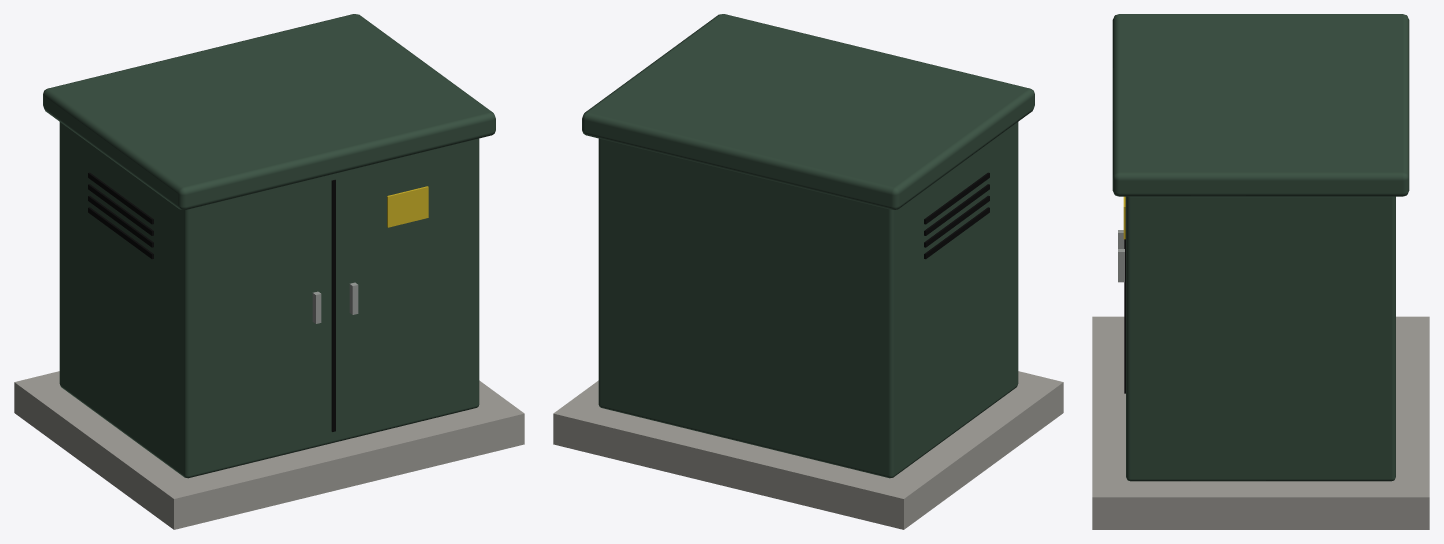
The model's file is energy.substation.kiosk_grp.glb.
3 renders of one model, left to right at view 1: azimuth 30°, elevation 25°; view 2: azimuth 150°, elevation 25°; view 3: azimuth 270°, elevation 25°, orthographic. The views are drawn at different scales.
Visible parts, largest first — view 1: main__enamel_354, main__concrete_a99, main__rubber, main__enamel_cb2, main__steel_999; view 2: main__enamel_354, main__concrete_a99, main__rubber; view 3: main__enamel_354, main__concrete_a99.
Boxes of the visible parts, x1,y1,x2,y2 form: main__enamel_354: (43,14,495,478); main__concrete_a99: (14,371,524,529); main__rubber: (88,172,335,431); main__enamel_cb2: (387,186,428,227); main__steel_999: (312,282,358,323); main__enamel_354: (582,14,1034,478); main__concrete_a99: (553,371,1063,529); main__rubber: (924,172,989,259); main__enamel_354: (1112,14,1409,481); main__concrete_a99: (1092,316,1429,529).
Bounding box in the file's own units: 1.9 × 1.7 × 1.5.
